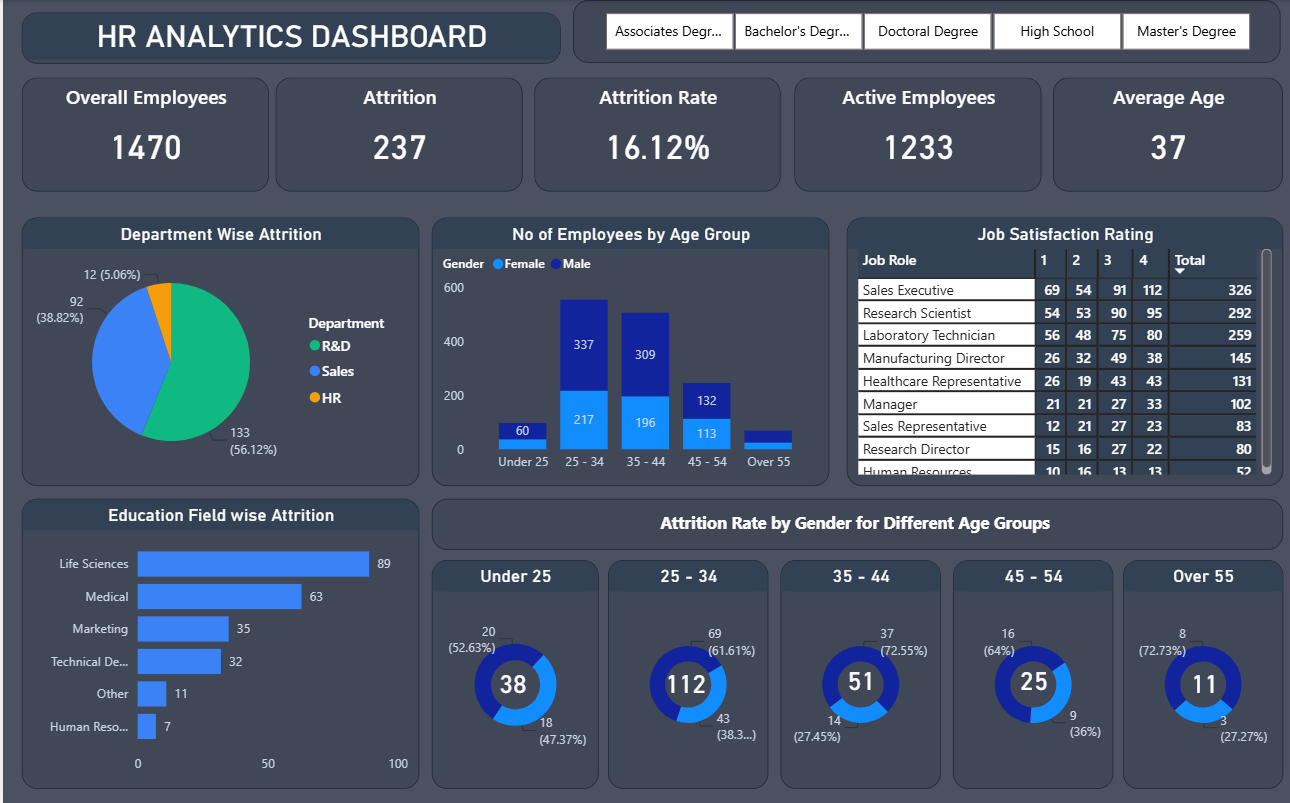

What the dashboard file says about the page in this screenshot:
{"tool":"powerbi","page":{"name":"Page 1","canvas":[1247,780],"ordinal":0},"visuals":[{"type":"advanceCardE03760C5AB684758B56AA29F9E6C257B","title":"Overall Employees ","fields":{"mainMeasure":["Sum(HR data.Employee Count)"]},"box":[18.1,75,239.5,110.1],"z":0},{"type":"advanceCardE03760C5AB684758B56AA29F9E6C257B","title":"Attrition","fields":{"mainMeasure":["Sum(HR data.Attrition Count)"]},"box":[263.7,75,239.5,110.1],"z":1000},{"type":"advanceCardE03760C5AB684758B56AA29F9E6C257B","title":"Active Employees ","fields":{"mainMeasure":["HR data.Active Employees"]},"box":[765.7,75,239.5,110.1],"z":2000},{"type":"advanceCardE03760C5AB684758B56AA29F9E6C257B","title":"Attrition Rate  ","fields":{"mainMeasure":["HR data.Attrition Rate"]},"box":[514.1,75,238.3,110.1],"z":3000},{"type":"advanceCardE03760C5AB684758B56AA29F9E6C257B","title":"Average Age","fields":{"mainMeasure":["Avg(HR data.Age)"]},"box":[1016.1,75,222.6,110.1],"z":4000},{"type":"pieChart","title":"Department Wise Attrition ","fields":{"Category":["HR data.Department"],"Y":["Sum(HR data.Attrition Count)"]},"box":[18.1,210.5,384.7,260.1],"z":5000},{"type":"columnChart","title":"No of Employees by Age Group","fields":{"Category":["HR data.CF_age band"],"Series":["HR data.Gender"],"Y":["Sum(HR data.Employee Count)"]},"box":[414.9,210.5,384.7,260.1],"z":6000},{"type":"pivotTable","title":"Job Satisfaction Rating","fields":{"Columns":["HR data.Job Satisfaction"],"Rows":["HR data.Job Role"],"Values":["Sum(HR data.Employee Count)"]},"box":[816.5,210.5,422.2,260.1],"z":7000},{"type":"clusteredBarChart","title":"Education Field wise Attrition","fields":{"Category":["HR data.Education Field"],"Y":["Sum(HR data.Attrition Count)"]},"box":[18.1,482.7,384.7,280.6],"z":8000},{"type":"donutChart","title":"Under 25","fields":{"Category":["HR data.Gender"],"Series":["HR data.CF_age band"],"Y":["Sum(HR data.Attrition Count)"]},"box":[414.4,541.4,161.8,221.9],"z":9000},{"type":"textbox","box":[414.9,482.7,823.8,49.6],"z":10000},{"type":"donutChart","title":"35 - 44","fields":{"Category":["HR data.Gender"],"Series":["HR data.CF_age band"],"Y":["Sum(HR data.Attrition Count)"]},"box":[752.4,541.9,154.8,221.4],"z":11000},{"type":"donutChart","title":"25 - 34","fields":{"Category":["HR data.Gender"],"Series":["HR data.CF_age band"],"Y":["Sum(HR data.Attrition Count)"]},"box":[585.5,541.9,154.8,221.4],"z":12000},{"type":"donutChart","title":"45 - 54","fields":{"Category":["HR data.Gender"],"Series":["HR data.CF_age band"],"Y":["Sum(HR data.Attrition Count)"]},"box":[919.4,541.9,154.8,221.4],"z":13000},{"type":"donutChart","title":"Over 55","fields":{"Category":["HR data.Gender"],"Series":["HR data.CF_age band"],"Y":["Sum(HR data.Attrition Count)"]},"box":[1083.9,541.9,154.8,221.4],"z":14000},{"type":"advanceCardE03760C5AB684758B56AA29F9E6C257B","fields":{"mainMeasure":["Sum(HR data.Attrition Count)"]},"box":[461.2,639,65.5,48.1],"z":15000},{"type":"advanceCardE03760C5AB684758B56AA29F9E6C257B","fields":{"mainMeasure":["Sum(HR data.Attrition Count)"]},"box":[633.7,639,53.5,48.1],"z":16000},{"type":"advanceCardE03760C5AB684758B56AA29F9E6C257B","fields":{"mainMeasure":["Sum(HR data.Attrition Count)"]},"box":[799.4,623,61.5,73.5],"z":17000},{"type":"advanceCardE03760C5AB684758B56AA29F9E6C257B","fields":{"mainMeasure":["Sum(HR data.Attrition Count)"]},"box":[967.9,623,60.2,73.5],"z":18000},{"type":"advanceCardE03760C5AB684758B56AA29F9E6C257B","fields":{"mainMeasure":["Sum(HR data.Attrition Count)"]},"box":[1127,639,70.9,48.1],"z":19000},{"type":"textbox","title":"HR ANALYTICS DASHBOARD","box":[18.7,12,521.4,49.5],"z":20000},{"type":"slicer","fields":{"Values":["HR data.Education"]},"box":[552.1,0,685,61],"z":21000}]}

Visuals, with their boxes in screenshot pixels (x1, y1, x2, y2), scaled from the page's 1247x780 canvas onto the 1290x803 screenshot:
"Overall Employees " advanceCardE03760C5AB684758B56AA29F9E6C257B: {"x1": 19, "y1": 77, "x2": 266, "y2": 191}
"Attrition" advanceCardE03760C5AB684758B56AA29F9E6C257B: {"x1": 273, "y1": 77, "x2": 521, "y2": 191}
"Active Employees " advanceCardE03760C5AB684758B56AA29F9E6C257B: {"x1": 792, "y1": 77, "x2": 1040, "y2": 191}
"Attrition Rate  " advanceCardE03760C5AB684758B56AA29F9E6C257B: {"x1": 532, "y1": 77, "x2": 778, "y2": 191}
"Average Age" advanceCardE03760C5AB684758B56AA29F9E6C257B: {"x1": 1051, "y1": 77, "x2": 1281, "y2": 191}
"Department Wise Attrition " pieChart: {"x1": 19, "y1": 217, "x2": 417, "y2": 484}
"No of Employees by Age Group" columnChart: {"x1": 429, "y1": 217, "x2": 827, "y2": 484}
"Job Satisfaction Rating" pivotTable: {"x1": 845, "y1": 217, "x2": 1281, "y2": 484}
"Education Field wise Attrition" clusteredBarChart: {"x1": 19, "y1": 497, "x2": 417, "y2": 786}
"Under 25" donutChart: {"x1": 429, "y1": 557, "x2": 596, "y2": 786}
textbox: {"x1": 429, "y1": 497, "x2": 1281, "y2": 548}
"35 - 44" donutChart: {"x1": 778, "y1": 558, "x2": 938, "y2": 786}
"25 - 34" donutChart: {"x1": 606, "y1": 558, "x2": 766, "y2": 786}
"45 - 54" donutChart: {"x1": 951, "y1": 558, "x2": 1111, "y2": 786}
"Over 55" donutChart: {"x1": 1121, "y1": 558, "x2": 1281, "y2": 786}
advanceCardE03760C5AB684758B56AA29F9E6C257B - Sum(HR data.Attrition Count): {"x1": 477, "y1": 658, "x2": 545, "y2": 707}
advanceCardE03760C5AB684758B56AA29F9E6C257B - Sum(HR data.Attrition Count): {"x1": 656, "y1": 658, "x2": 711, "y2": 707}
advanceCardE03760C5AB684758B56AA29F9E6C257B - Sum(HR data.Attrition Count): {"x1": 827, "y1": 641, "x2": 891, "y2": 717}
advanceCardE03760C5AB684758B56AA29F9E6C257B - Sum(HR data.Attrition Count): {"x1": 1001, "y1": 641, "x2": 1064, "y2": 717}
advanceCardE03760C5AB684758B56AA29F9E6C257B - Sum(HR data.Attrition Count): {"x1": 1166, "y1": 658, "x2": 1239, "y2": 707}
"HR ANALYTICS DASHBOARD" textbox: {"x1": 19, "y1": 12, "x2": 559, "y2": 63}
slicer - HR data.Education: {"x1": 571, "y1": 0, "x2": 1280, "y2": 63}
